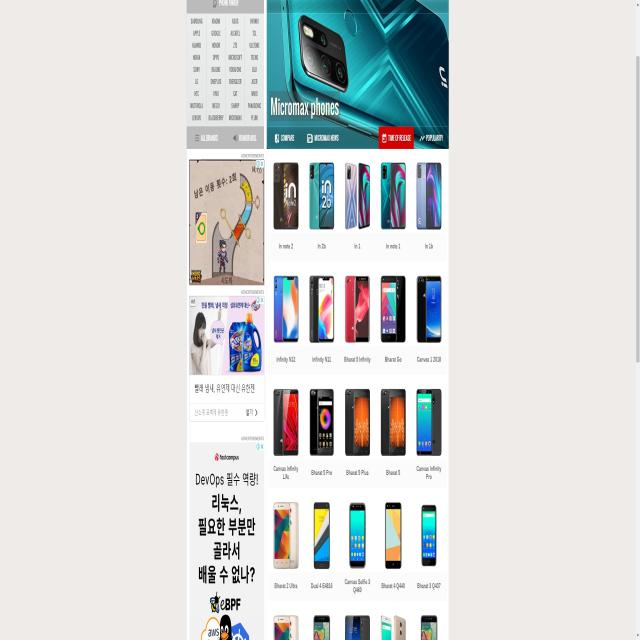tab-bar: (267, 126, 450, 145)
